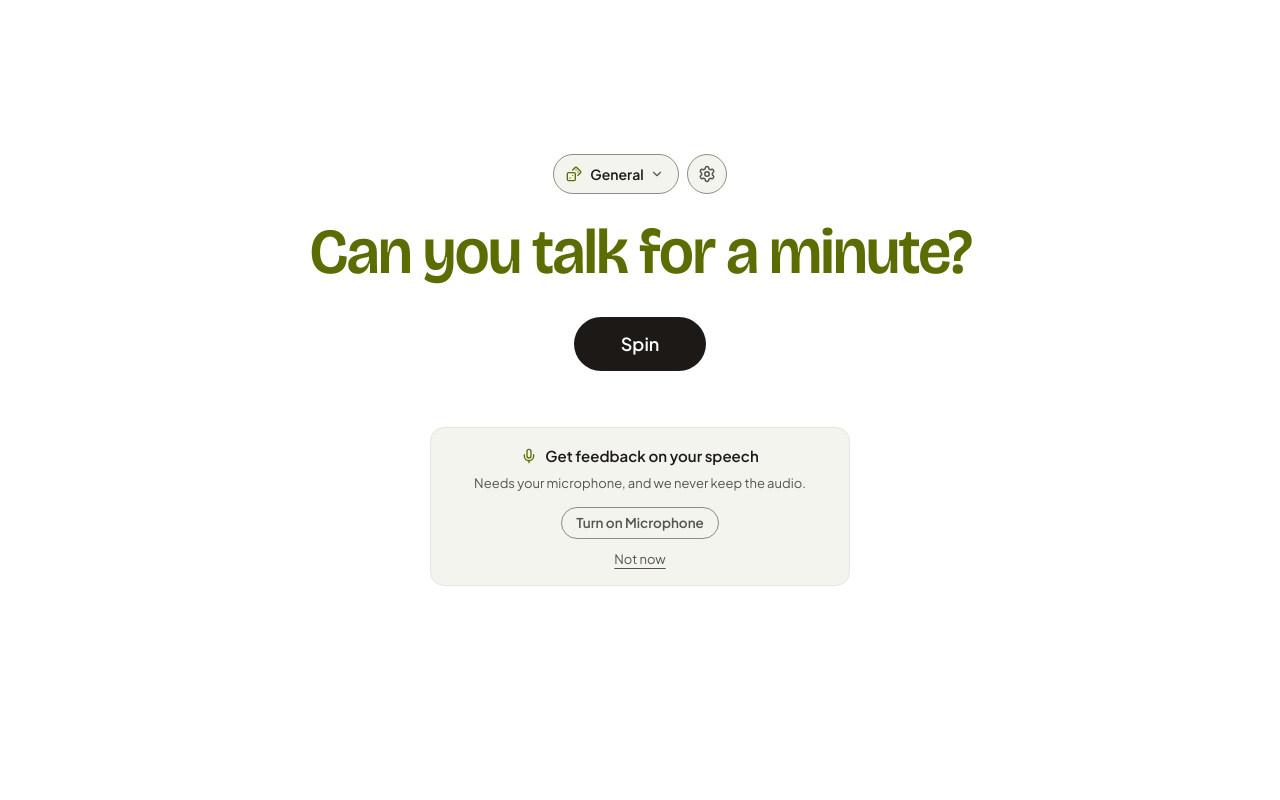
it: the sheets › never puts an action in the identity column, and says the cap once
Step 1. Click the button "General" → [616, 174], box [553,154,679,194]
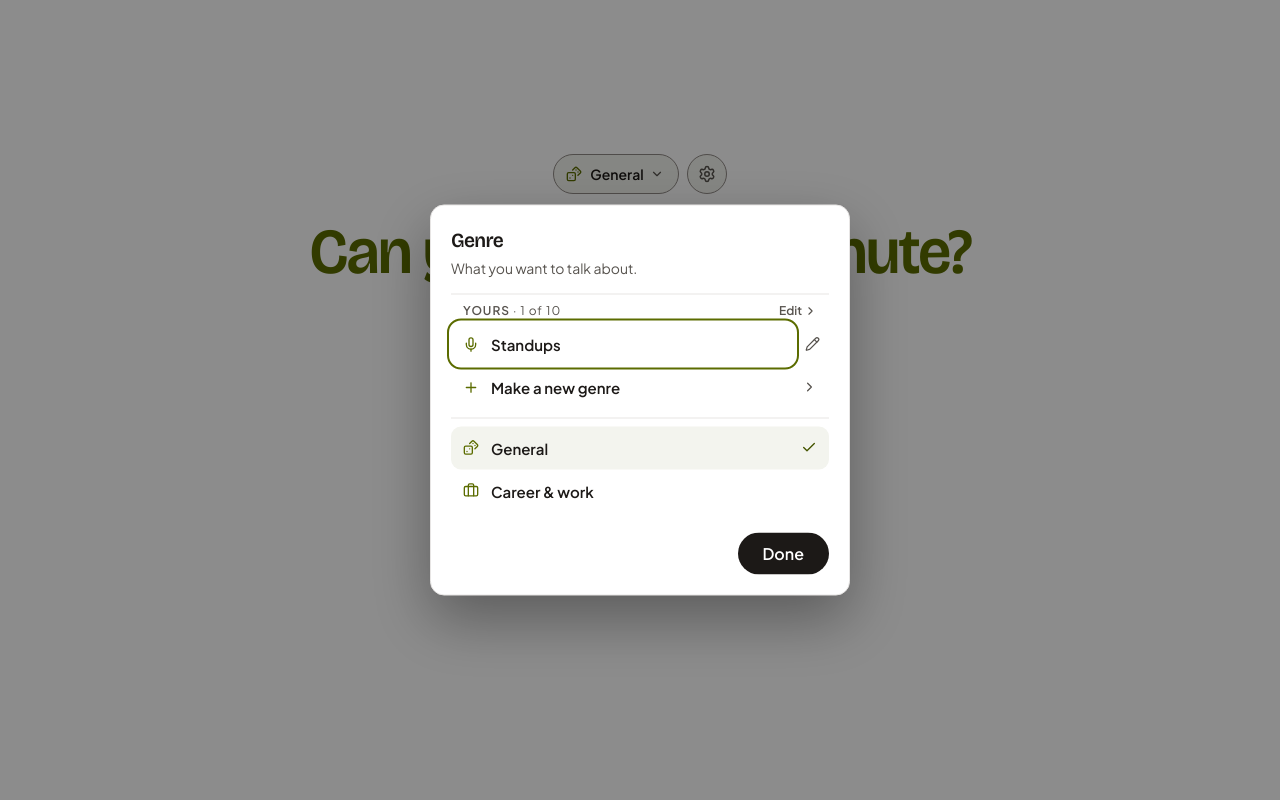
Now the text "· 1 of 10" is shown, box [510,302,561,318]
Now the number of links named "Edit " is 1, box [804,337,820,352]
